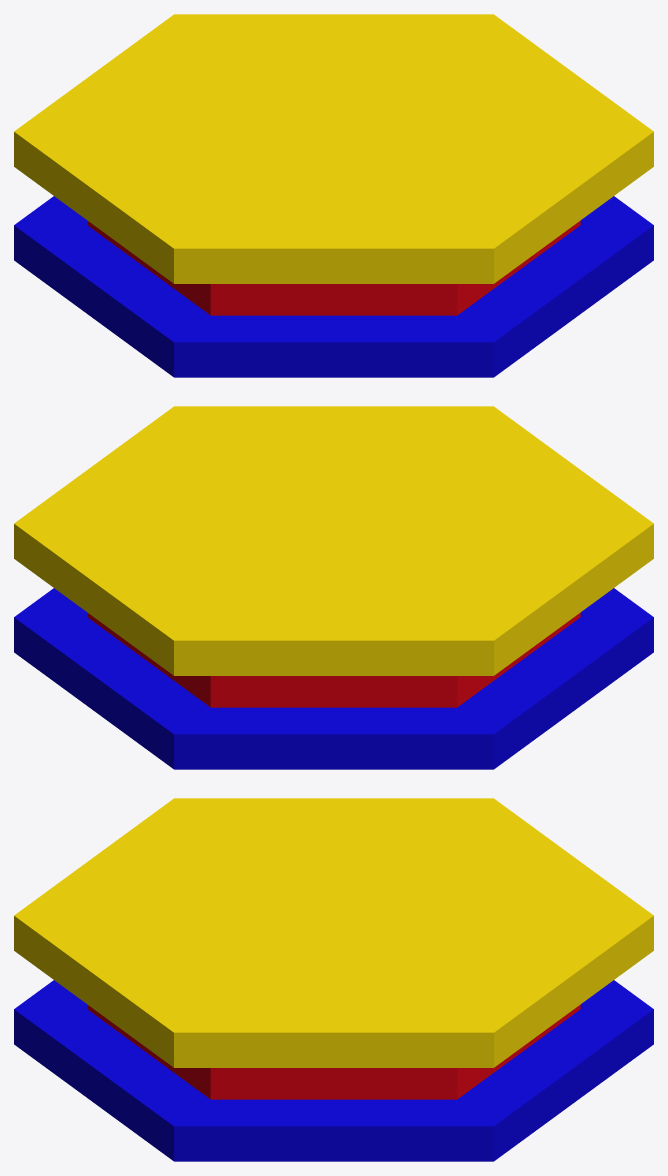
The model's file is red-game-piece.glb.
The picture shows the model from 3 angles, top to bottom: view 1: azimuth 30°, elevation 25°; view 2: azimuth 150°, elevation 25°; view 3: azimuth 270°, elevation 25°; orthographic projection.
Visible parts, largest first — view 1: Circle.001, Circle, Circle.002; view 2: Circle.001, Circle, Circle.002; view 3: Circle.001, Circle, Circle.002.
Part boxes in pixels (left/top/right/bottom): Circle.001: left=14, top=14, right=653, bottom=283; Circle: left=14, top=196, right=653, bottom=377; Circle.002: left=87, top=220, right=580, bottom=315; Circle.001: left=14, top=406, right=653, bottom=675; Circle: left=14, top=588, right=653, bottom=769; Circle.002: left=87, top=612, right=580, bottom=707; Circle.001: left=14, top=798, right=653, bottom=1067; Circle: left=14, top=980, right=653, bottom=1161; Circle.002: left=87, top=1004, right=580, bottom=1099.
Bounding box in the file's own units: 1.73 × 0.4441 × 2.
